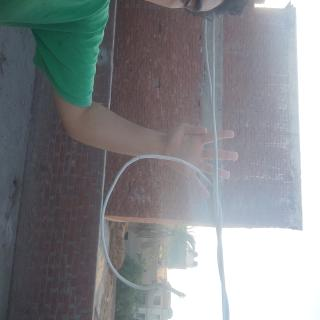SHEEN: (86, 105, 146, 208)
